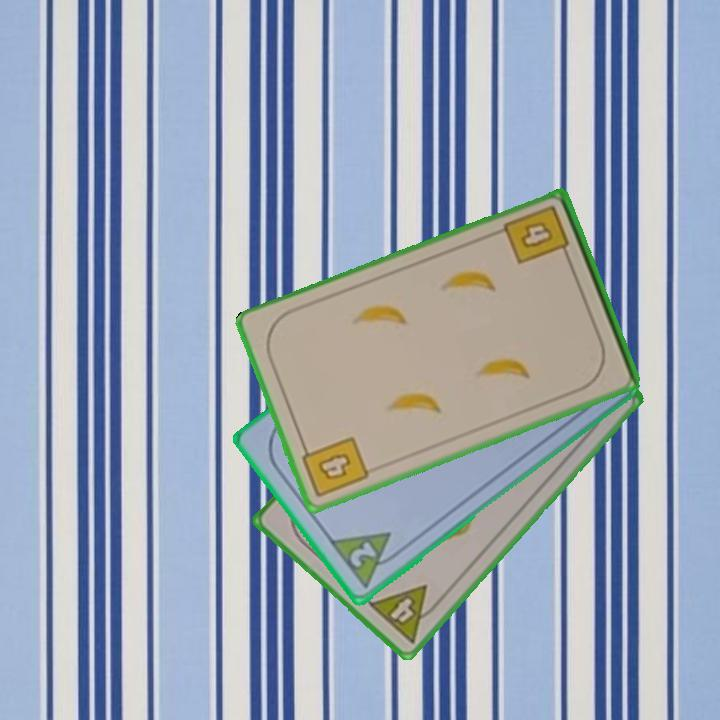2p: (325, 528, 406, 593)
4b: (297, 433, 372, 501), (500, 202, 573, 268)
4p: (365, 581, 445, 647)
